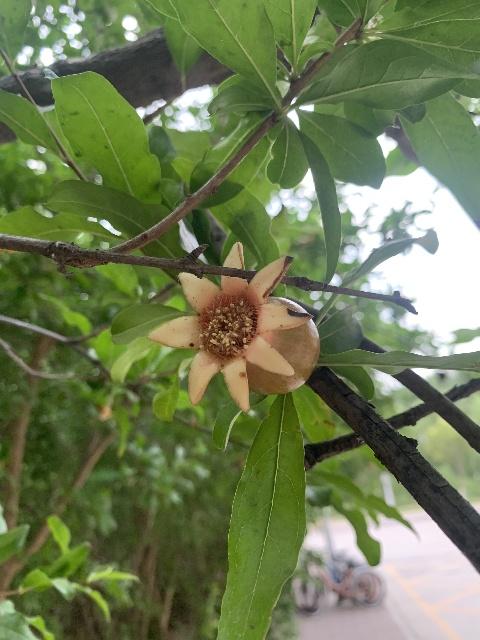early-fruit: (146, 240, 319, 413)
